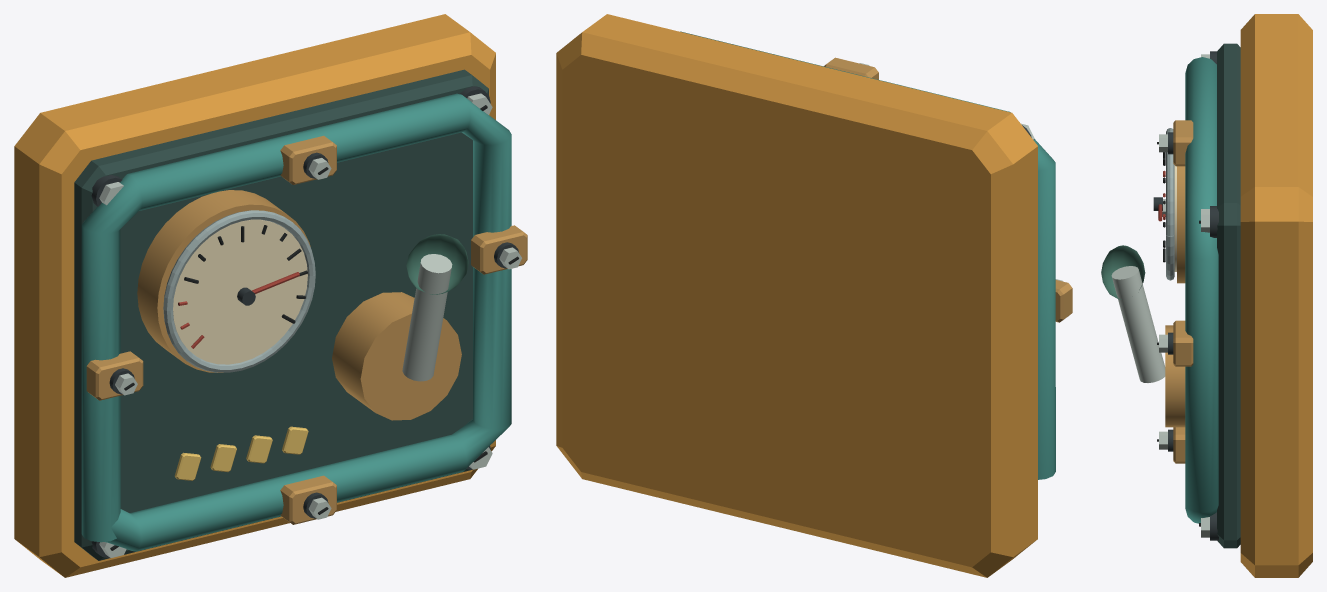
The model's file is seal-repaired.glb.
The picture shows the model from 3 angles, left to right: view 1: azimuth 30°, elevation 25°; view 2: azimuth 150°, elevation 25°; view 3: azimuth 270°, elevation 25°; orthographic projection. The views are drawn at different scales.
Visible parts, largest first — view 1: RB_seal_repaired; view 2: RB_seal_repaired; view 3: RB_seal_repaired.
Boxes of the visible parts, x1,y1,x2,y2 form: RB_seal_repaired: (14,14,527,577); RB_seal_repaired: (556,14,1072,577); RB_seal_repaired: (1101,14,1312,577).
Bounding box in the file's own units: 0.46 × 0.43 × 0.211.
